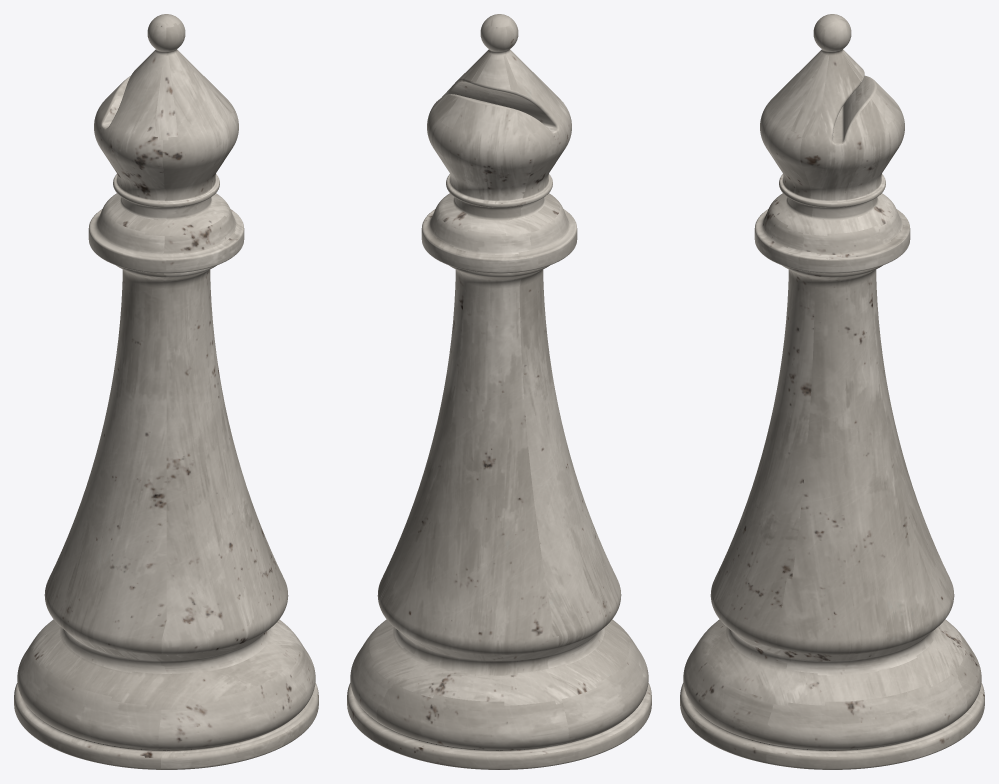
The model's file is wbishop.glb.
3 views of the same model, side by side, from view 1: azimuth 30°, elevation 25°; view 2: azimuth 150°, elevation 25°; view 3: azimuth 270°, elevation 25° (orthographic).
Visible parts, largest first — view 1: BishoP; view 2: BishoP; view 3: BishoP.
Boxes of the visible parts, x1,y1,x2,y2 form: BishoP: (14, 14, 318, 769); BishoP: (347, 14, 651, 769); BishoP: (680, 14, 984, 769).
Bounding box in the file's own units: 0.028 × 0.07 × 0.028.
1 material, 1 textured.
